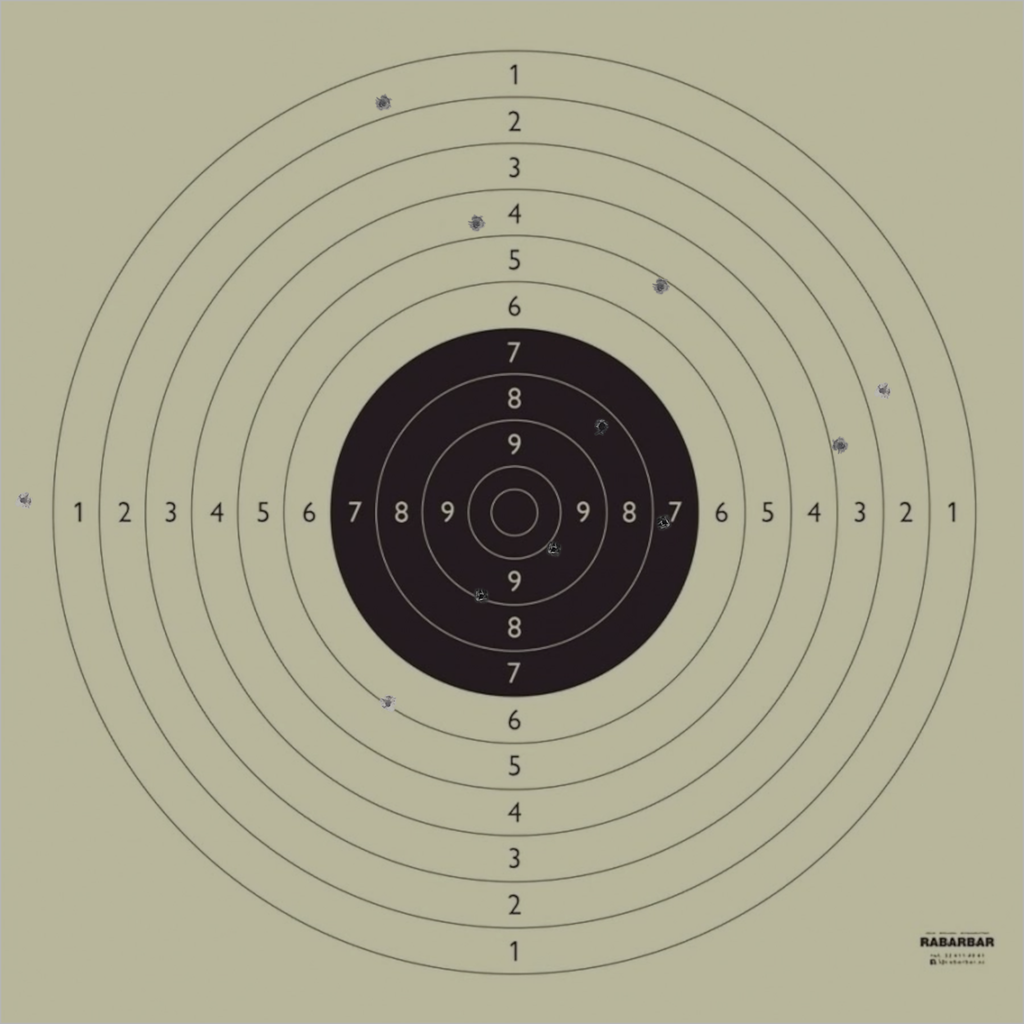0 punktow: (15, 491, 33, 509)
1 punkt: (374, 94, 392, 112)
10 punktow: (544, 540, 563, 559)
2 punkty: (874, 381, 892, 400)
3 punkty: (831, 436, 850, 455)
4 punkty: (467, 215, 486, 233)
5 punktow: (651, 278, 670, 296)
6 punktow: (379, 694, 397, 712)
7 punktow: (655, 513, 674, 532)
8 punktow: (592, 417, 611, 436)
9 punktow: (472, 587, 490, 606)
